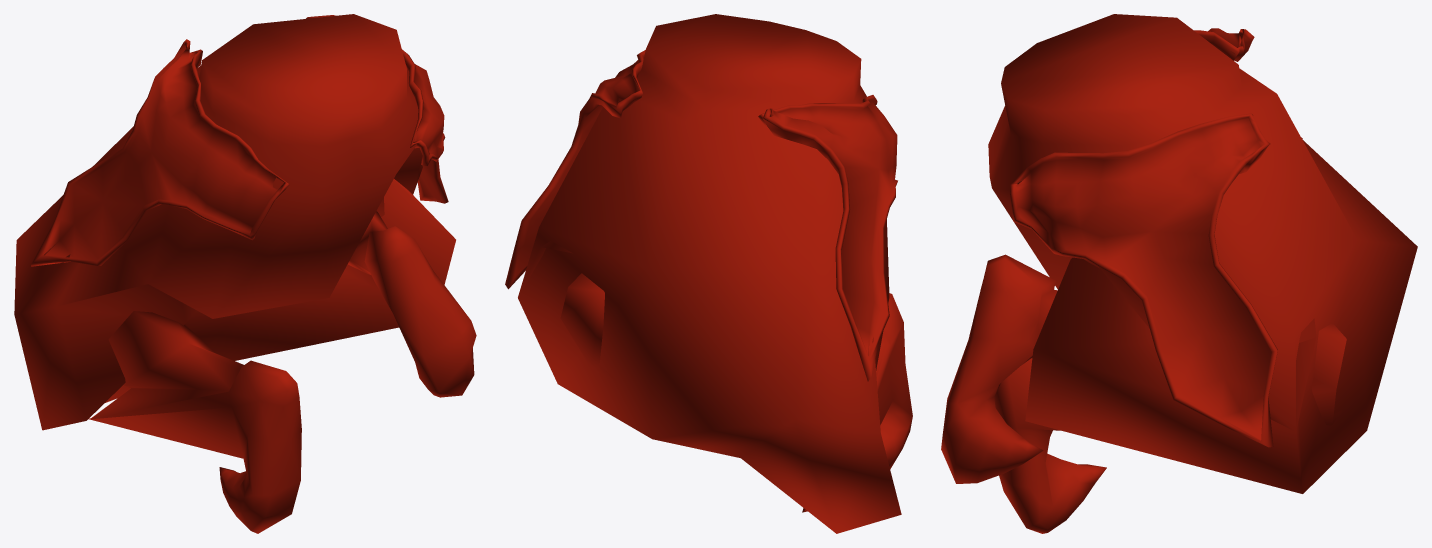
File: bot_000048.obj
3 views of the same model, side by side, from view 1: azimuth 30°, elevation 25°; view 2: azimuth 150°, elevation 25°; view 3: azimuth 270°, elevation 25° (orthographic). The views are drawn at different scales.
Parts seen in each view (by area): view 1: LowPoly_Warlock.004_Plane.004; view 2: LowPoly_Warlock.004_Plane.004; view 3: LowPoly_Warlock.004_Plane.004.
Boxes of the visible parts, x1,y1,x2,y2 form: LowPoly_Warlock.004_Plane.004: (14,14,476,533); LowPoly_Warlock.004_Plane.004: (505,14,912,533); LowPoly_Warlock.004_Plane.004: (941,14,1417,533).
Bounding box in the file's own units: 0.751 × 0.7962 × 0.6607.
